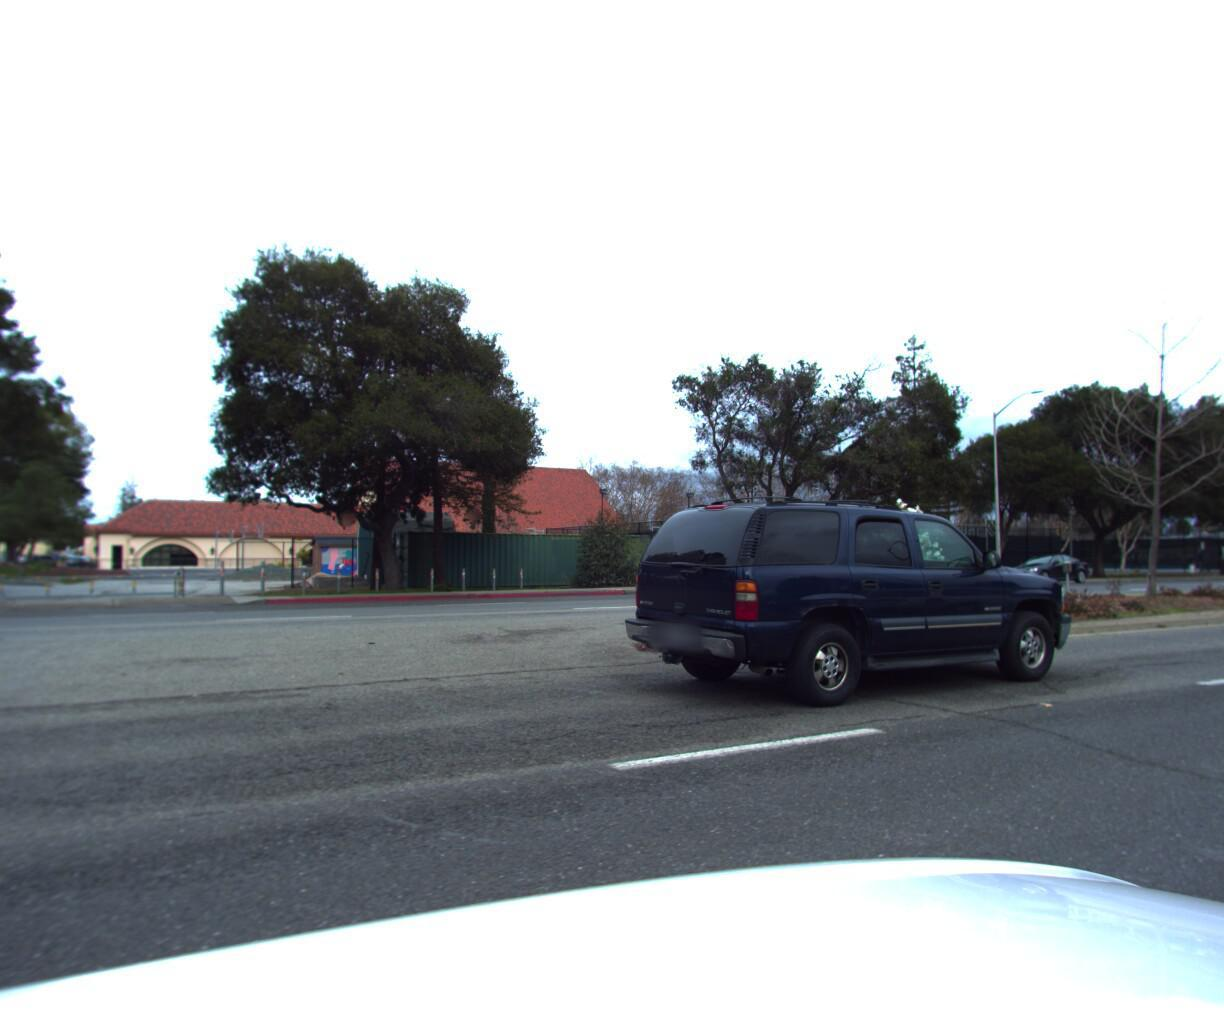car: (610, 472, 1087, 723), (995, 549, 1092, 582)
